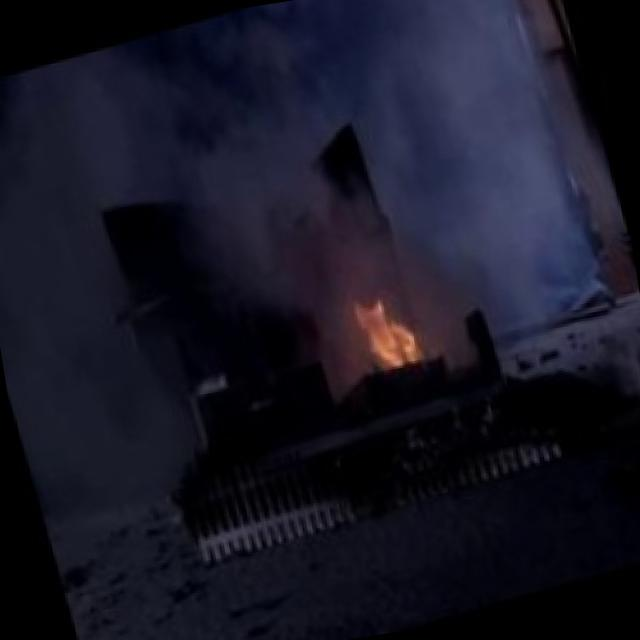fire: (309, 266, 452, 421)
smoke: (0, 0, 590, 377)
